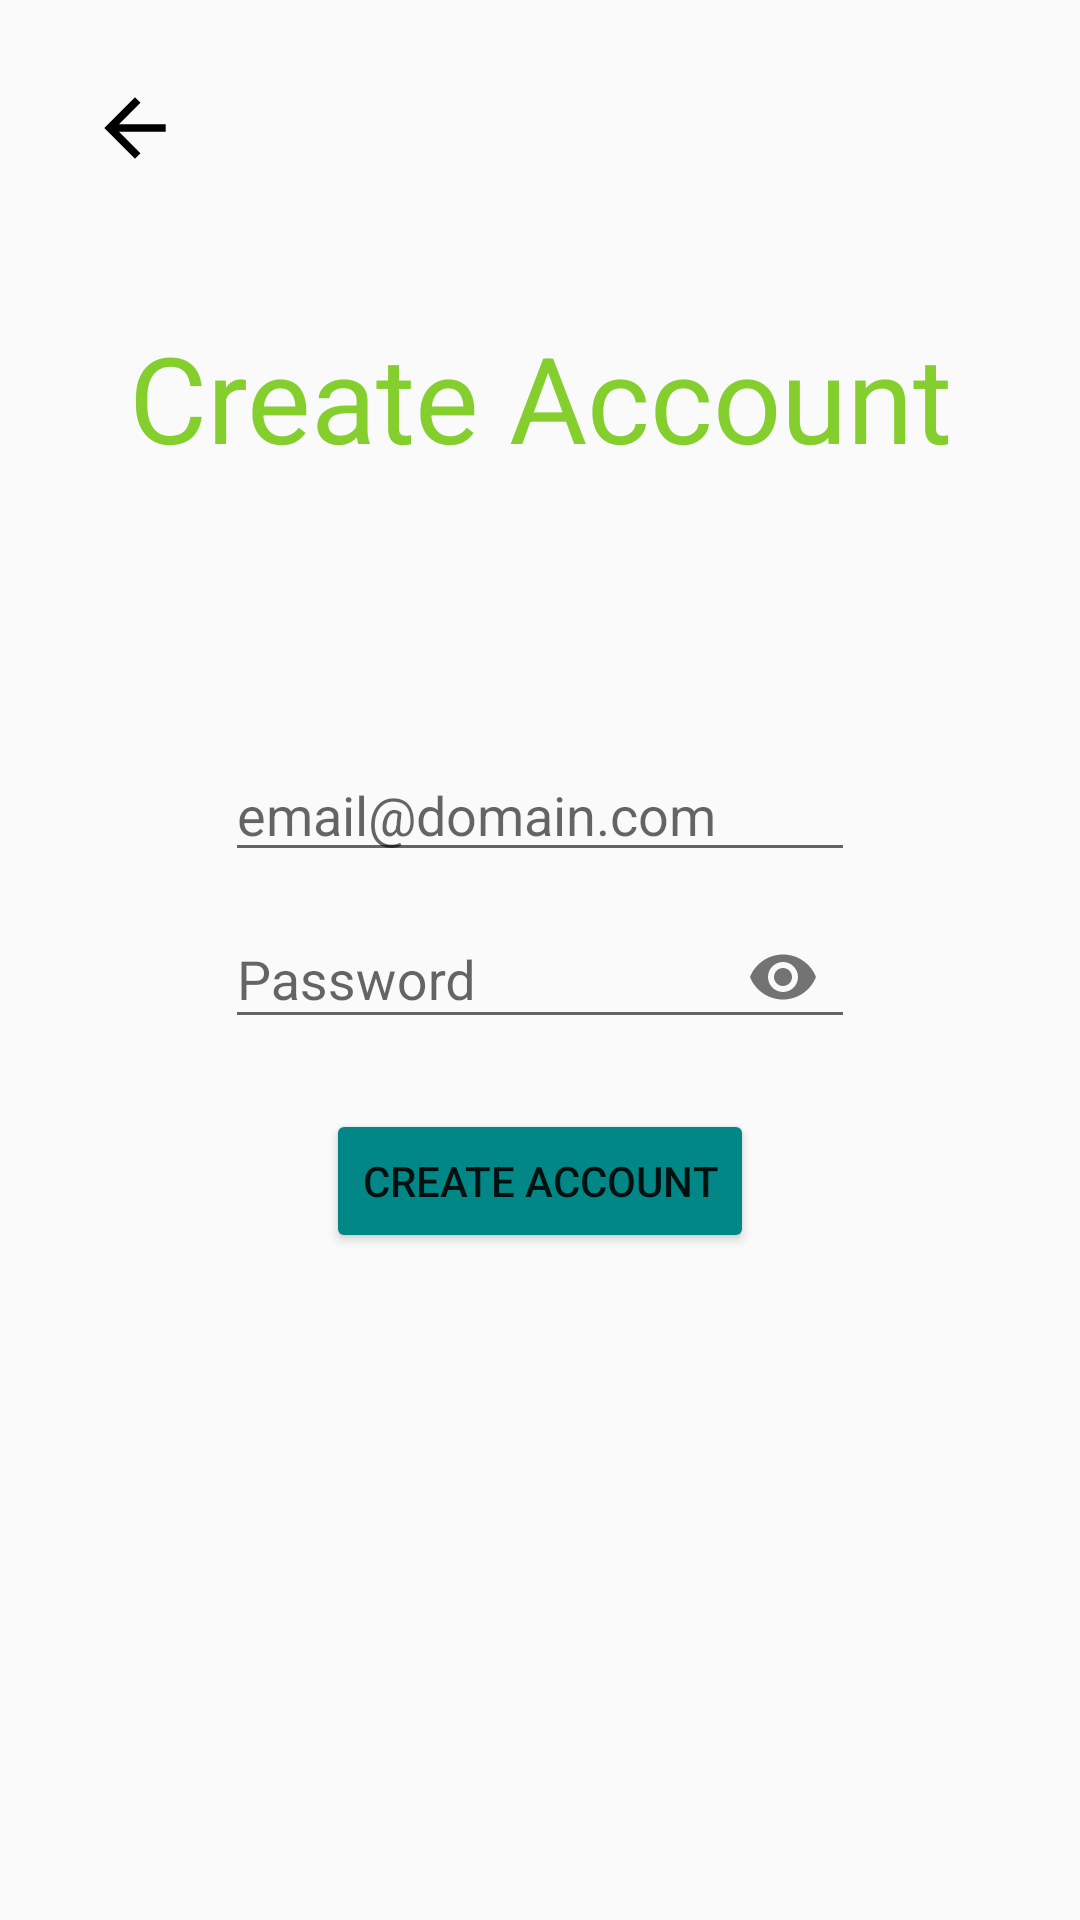

Screen size 1080px×1920px. Icon name, then its box in pixels as (x1, y1, x2, y2):
back arrow: (104, 97, 166, 159)
